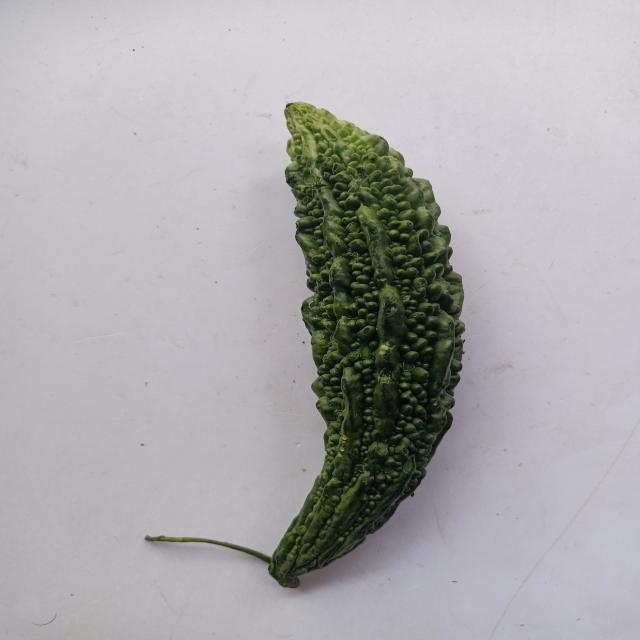Bitter Gourd: (188, 76, 487, 613)
